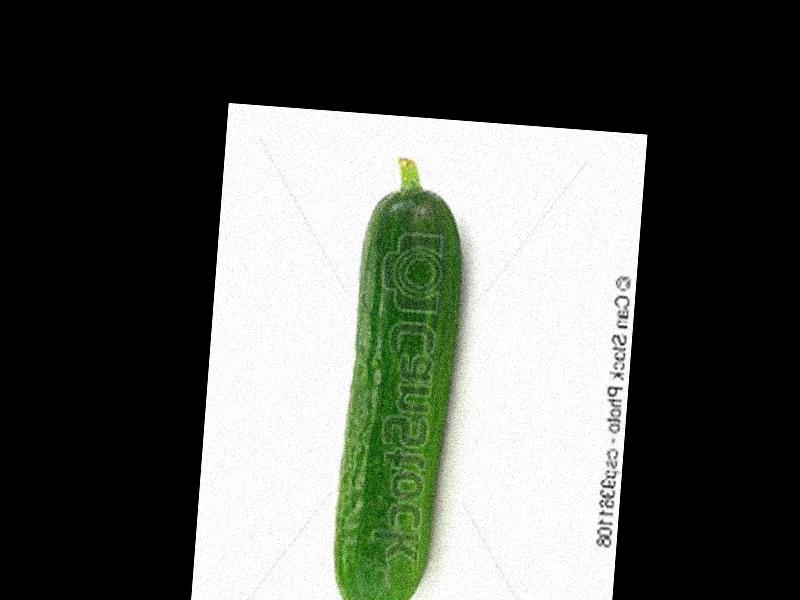Cucumber: (329, 153, 471, 600)
